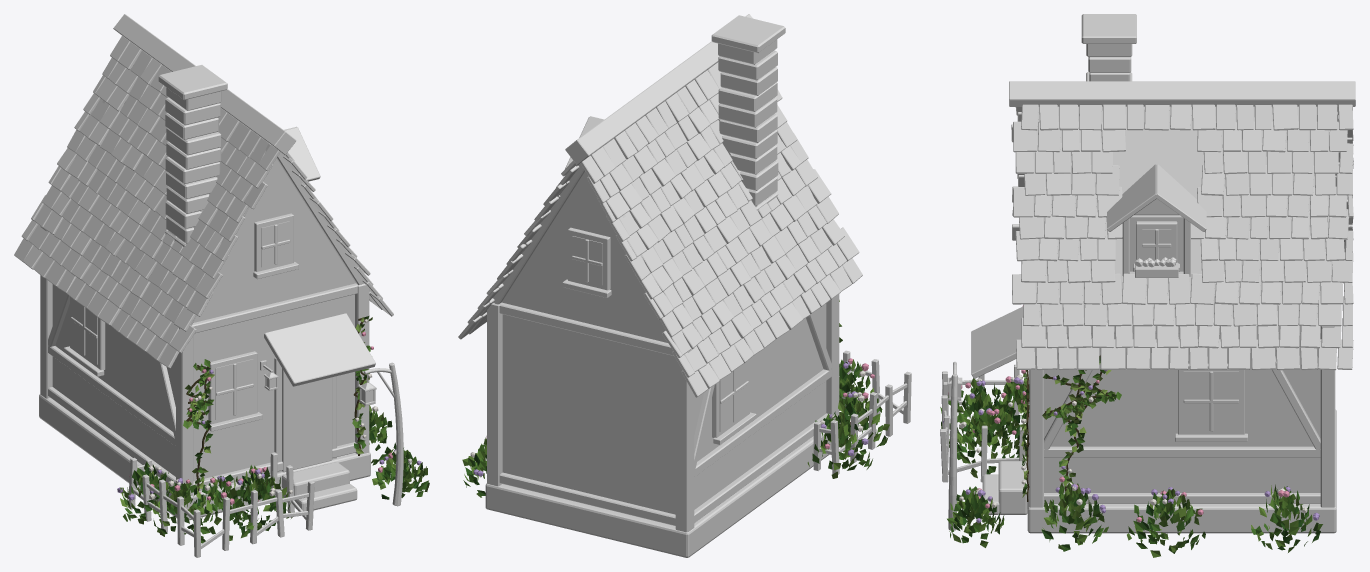
The model's file is cabin.glb.
3 renders of one model, left to right at view 1: azimuth 30°, elevation 25°; view 2: azimuth 150°, elevation 25°; view 3: azimuth 270°, elevation 25°, orthographic. The views are drawn at different scales.
Parts seen in each view (by area): view 1: Cabin, CabinFoliage; view 2: Cabin, CabinFoliage; view 3: Cabin, CabinFoliage.
Boxes of the visible parts, x1,y1,x2,y2 form: Cabin: (14, 14, 403, 557); CabinFoliage: (117, 316, 429, 543); Cabin: (458, 14, 911, 557); CabinFoliage: (462, 300, 889, 497); Cabin: (940, 14, 1355, 533); CabinFoliage: (940, 305, 1322, 557).
Size of the model in its own units: 4.82 by 6.62 by 5.7.
